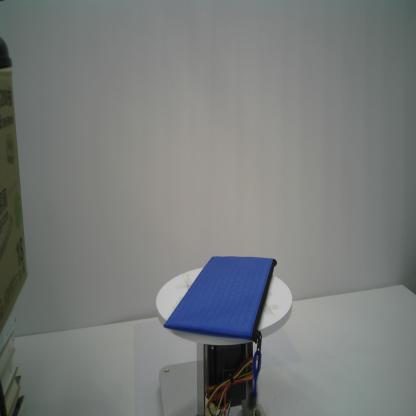Stationery: (162, 254, 278, 410)
